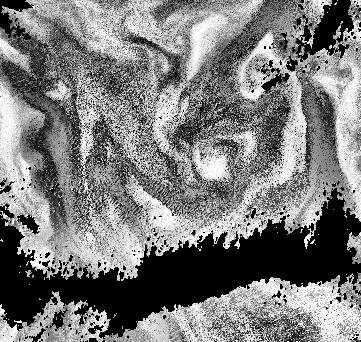CE: (237, 45, 300, 103)
